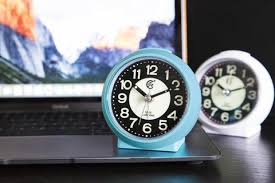alarm_clock: (98, 44, 200, 150), (99, 44, 200, 150), (98, 50, 200, 150)
